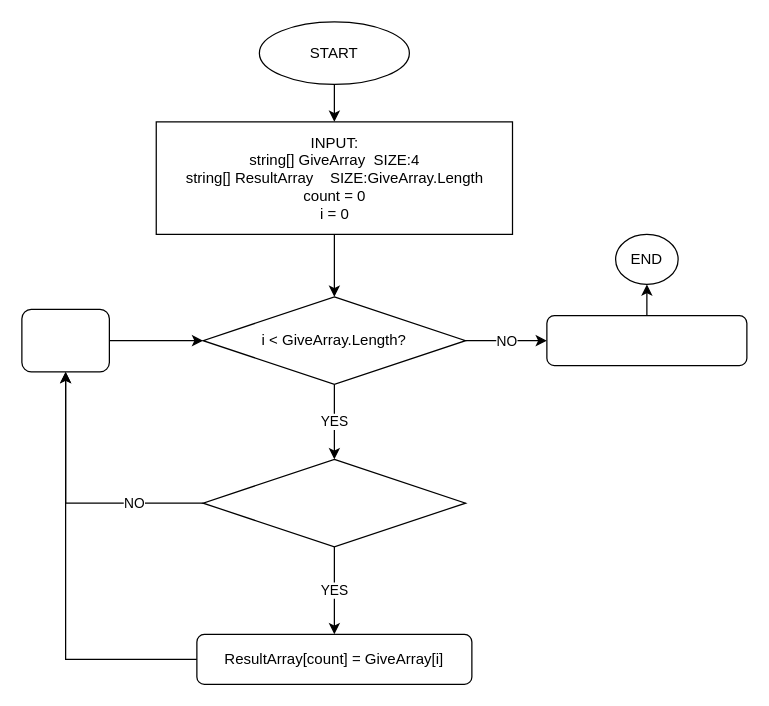
The diagram is 769 pixels wide and 706 high, and some of its shapes have lost their labels. Here are the shapes that lost their labels. From the top down, the centre of each, then its label:
[65,340]: count++ i++
[646,340]: PRINT ResultArray
[334,502]: GiveArray[i]<=3?
